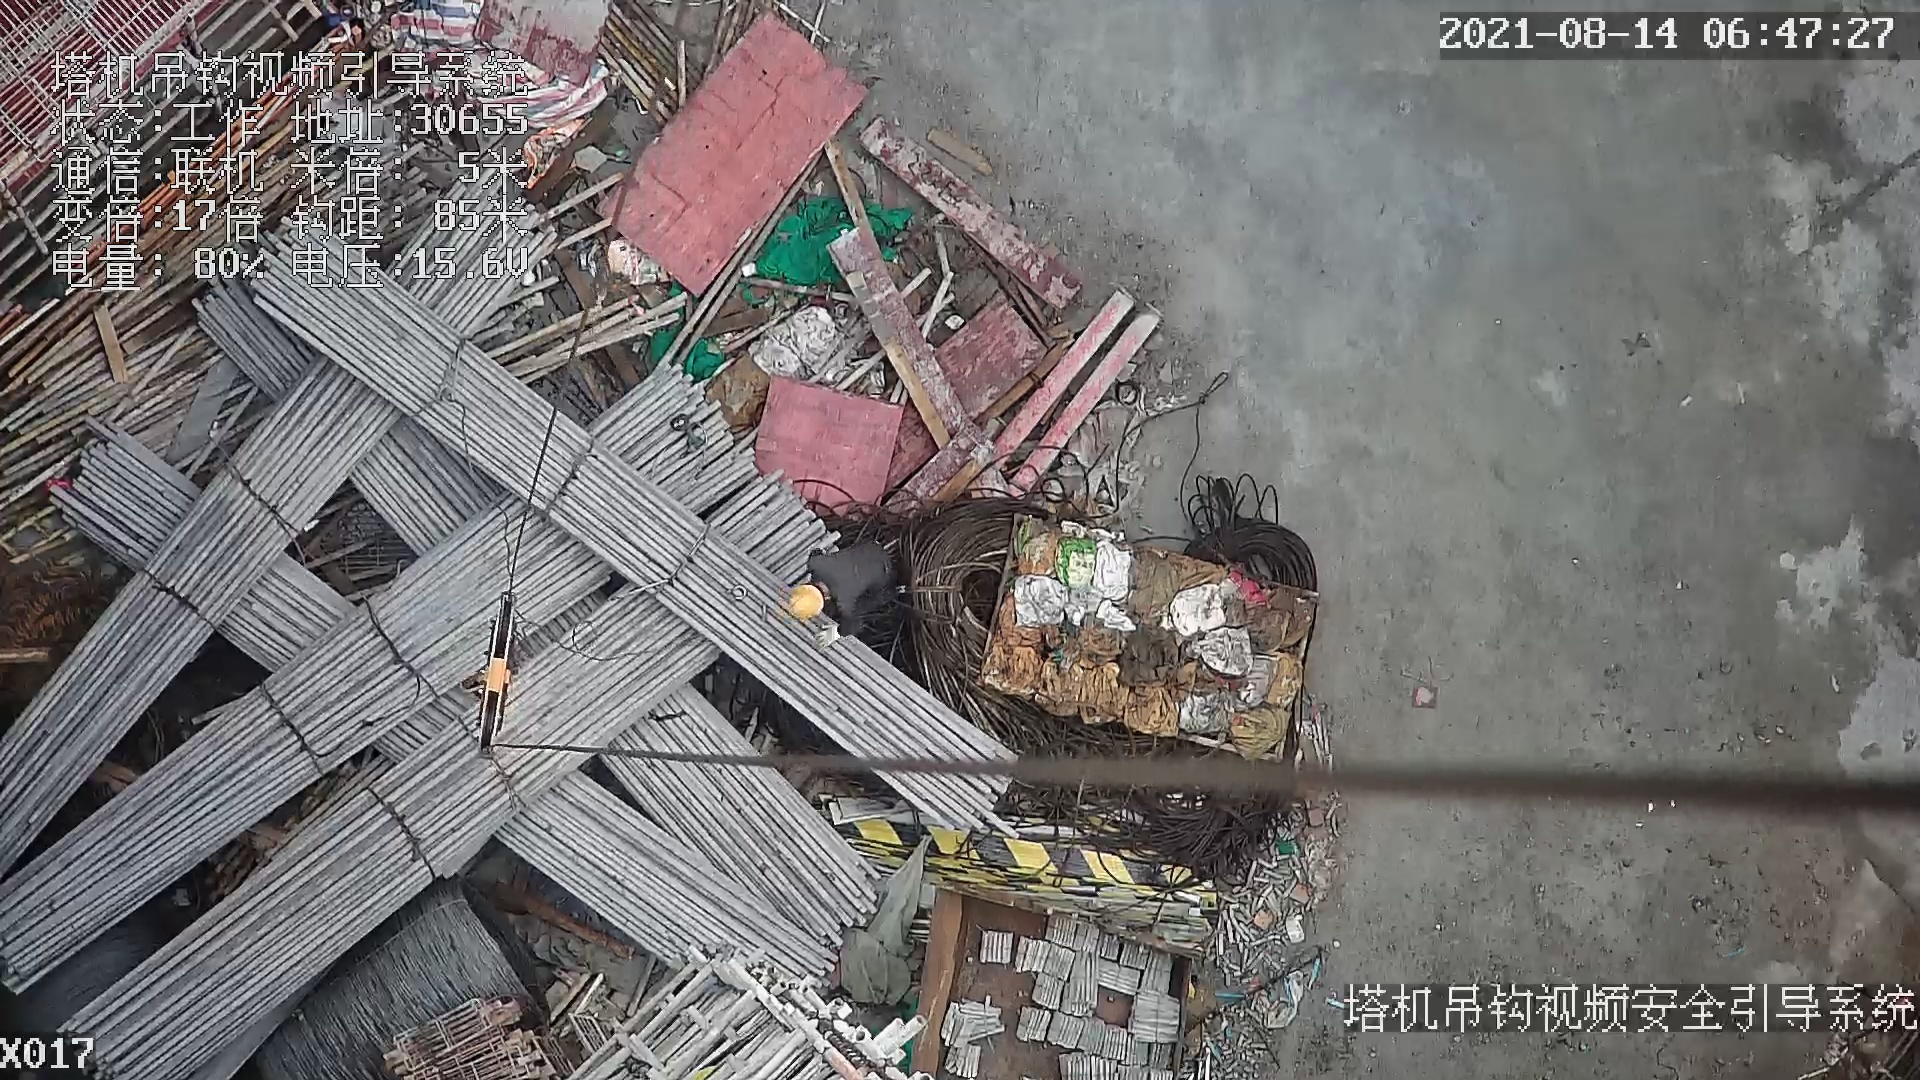board: (589, 9, 869, 309)
helmet: (788, 583, 823, 616)
hook: (468, 583, 522, 751)
person: (781, 535, 904, 650)
